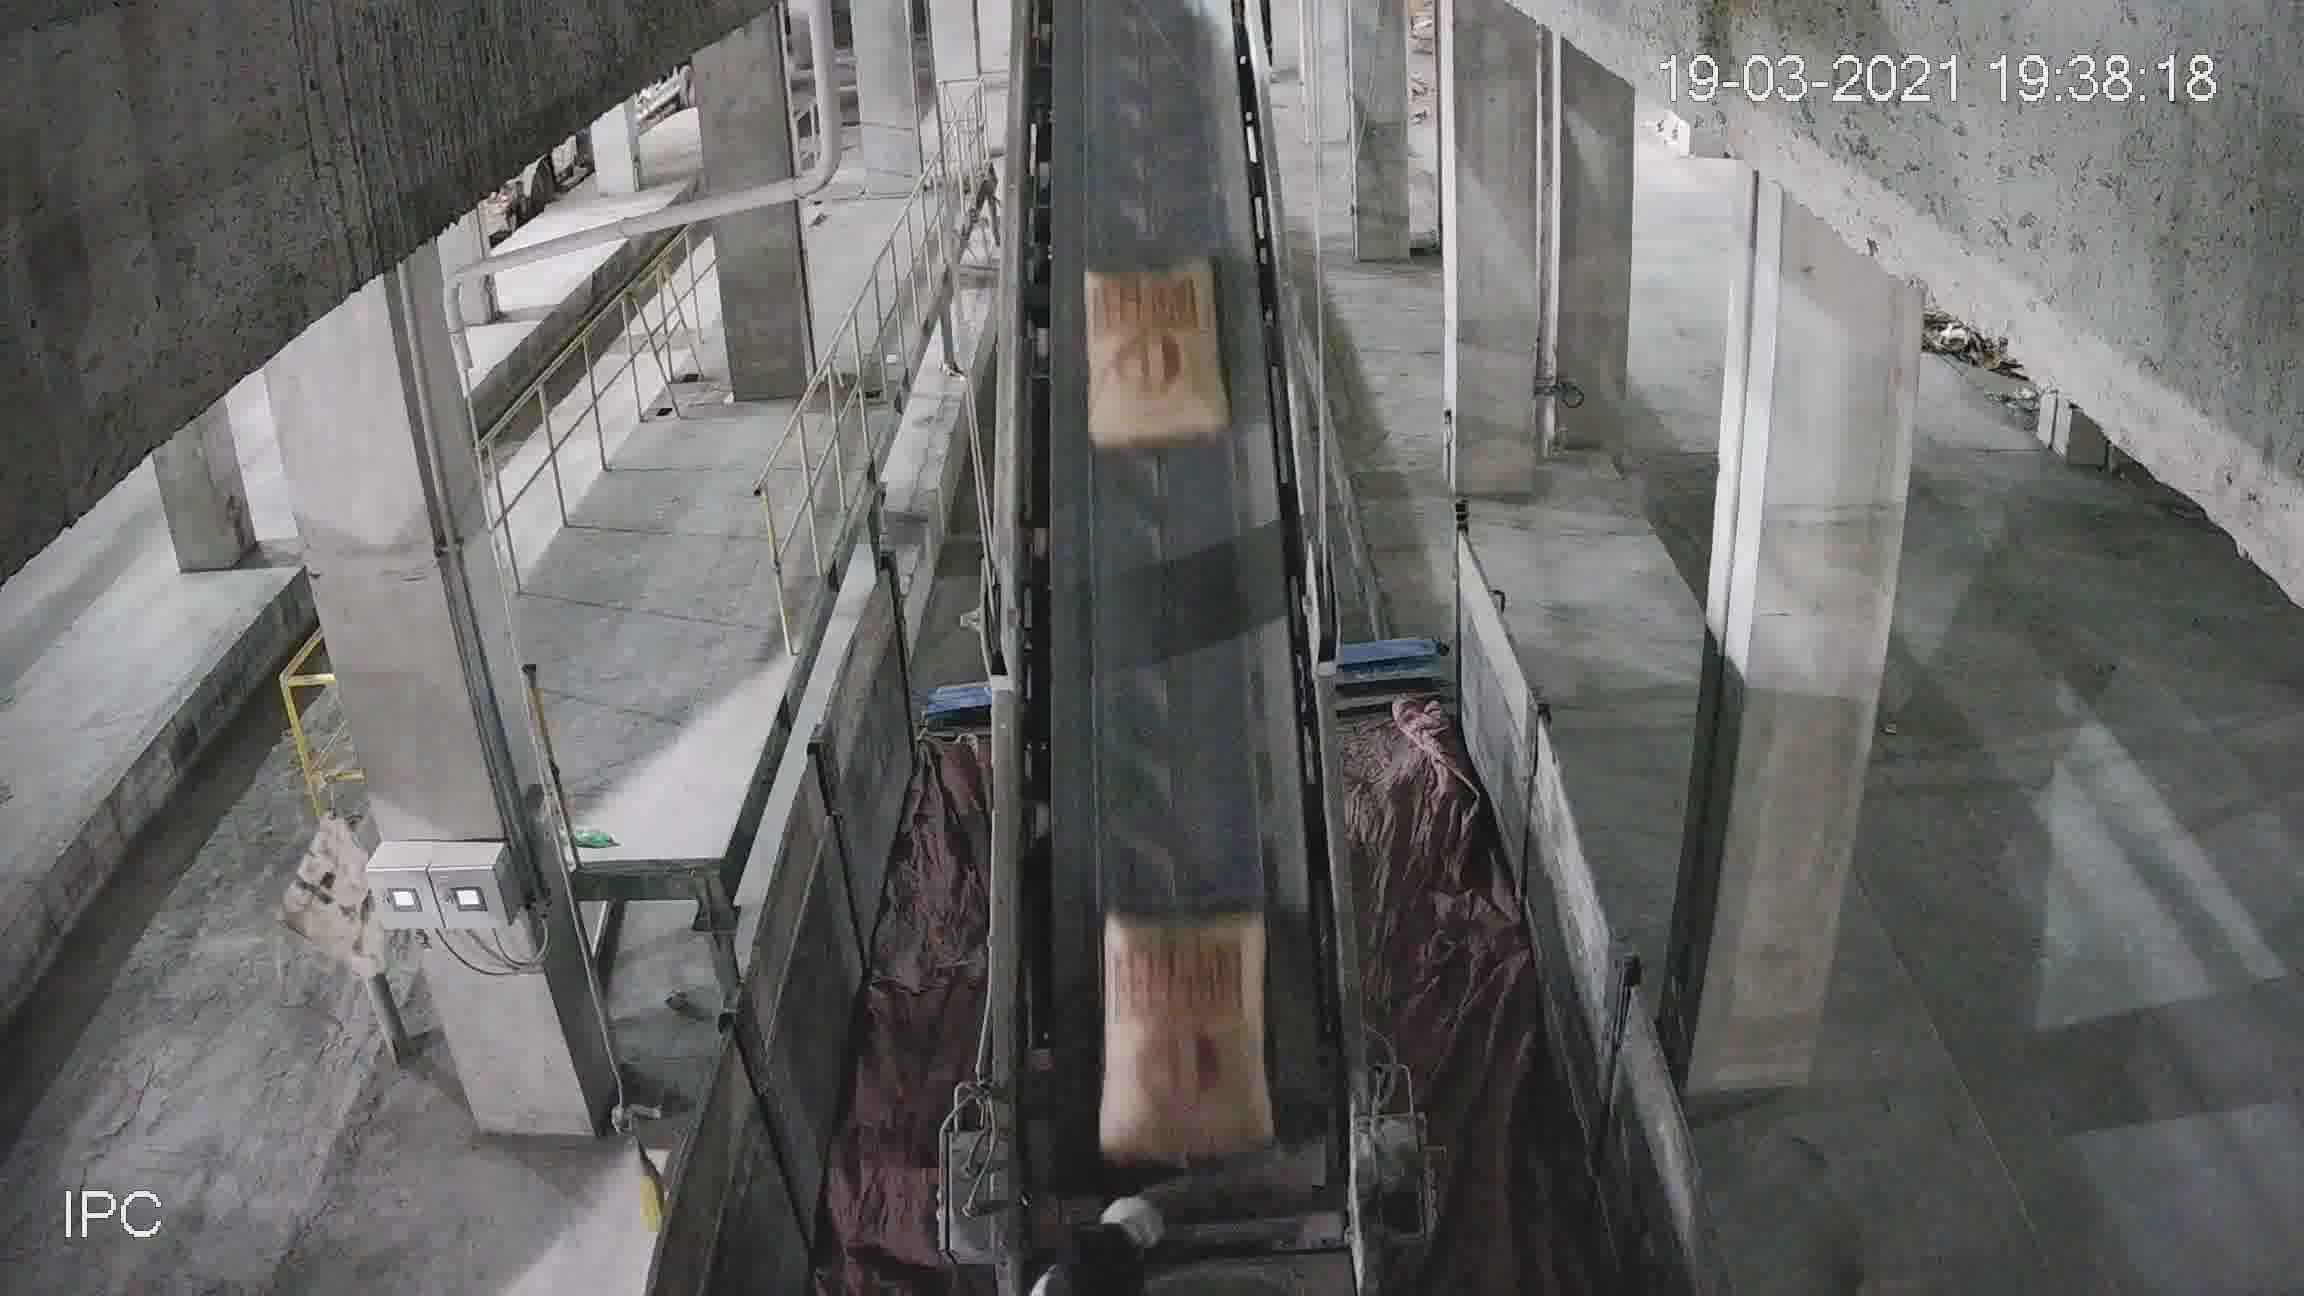bag: (1097, 915, 1268, 1157), (1086, 260, 1218, 430)
belt: (986, 19, 1355, 1241)
